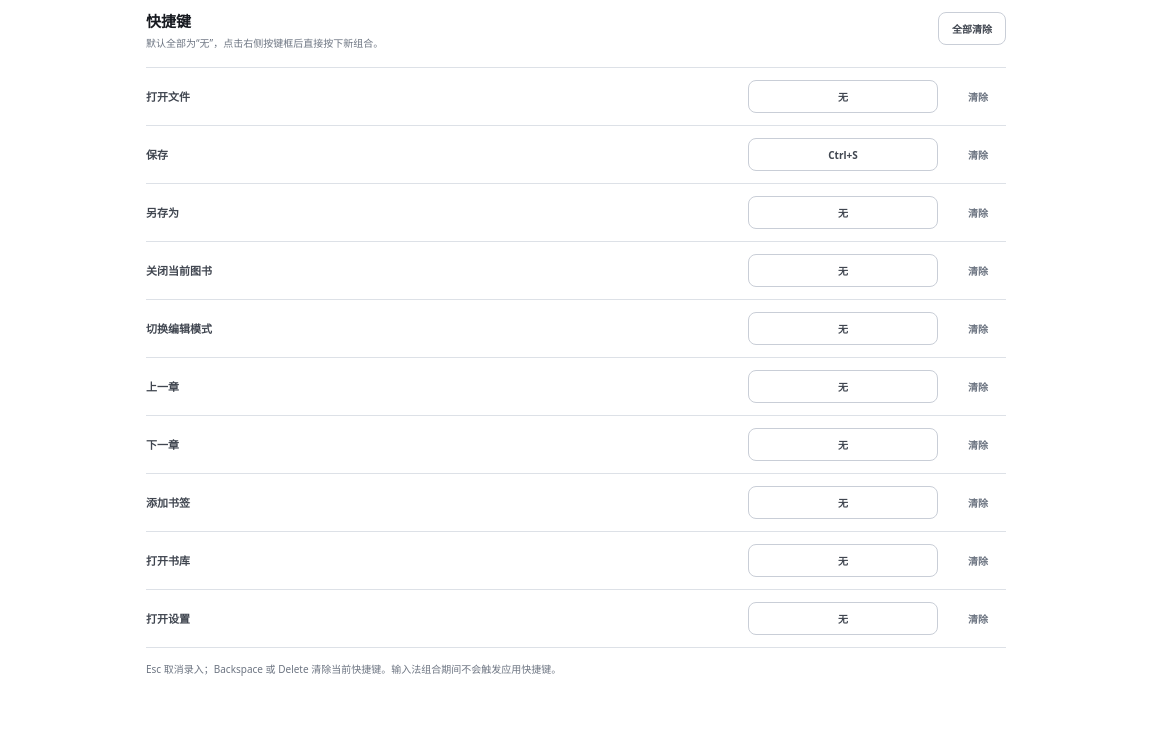
Test: ShortcutSettingsPanel › rejects a combination already assigned to another action
Step 1. Click the button named "打开文件快捷键" → (843, 96), box left=748, top=80, right=938, bottom=113
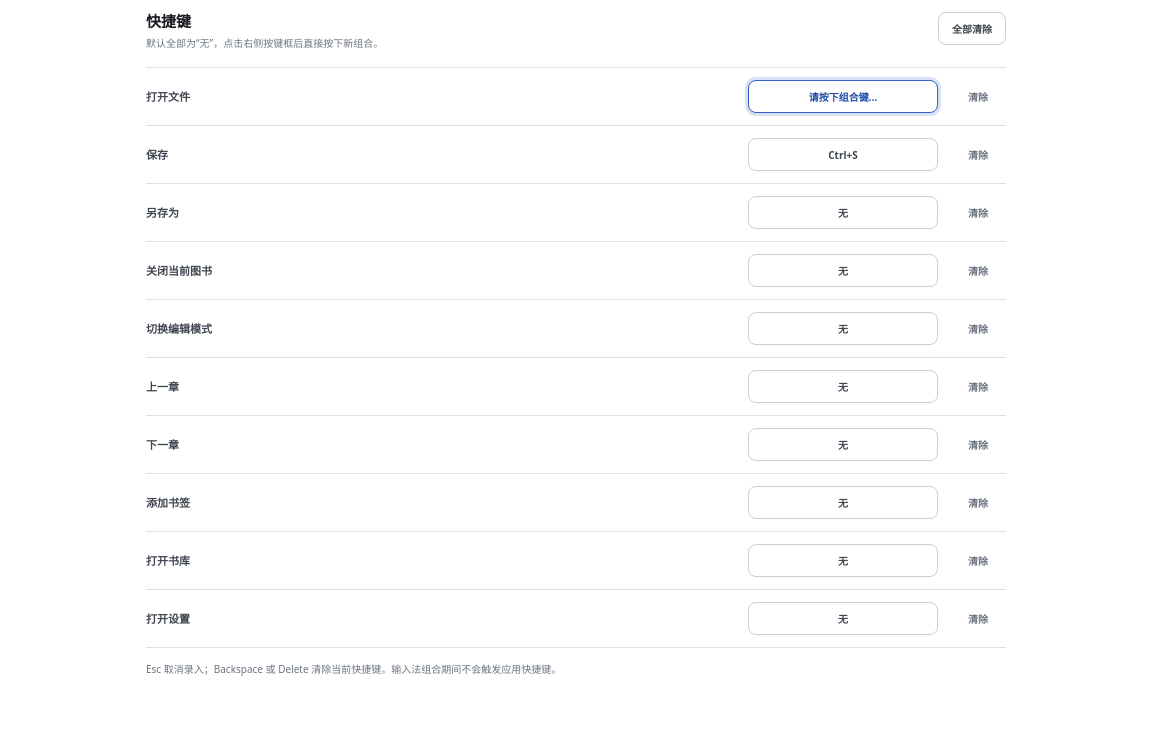
Step 2. Press s in the button with aria-label "打开文件快捷键", box left=748, top=80, right=938, bottom=113
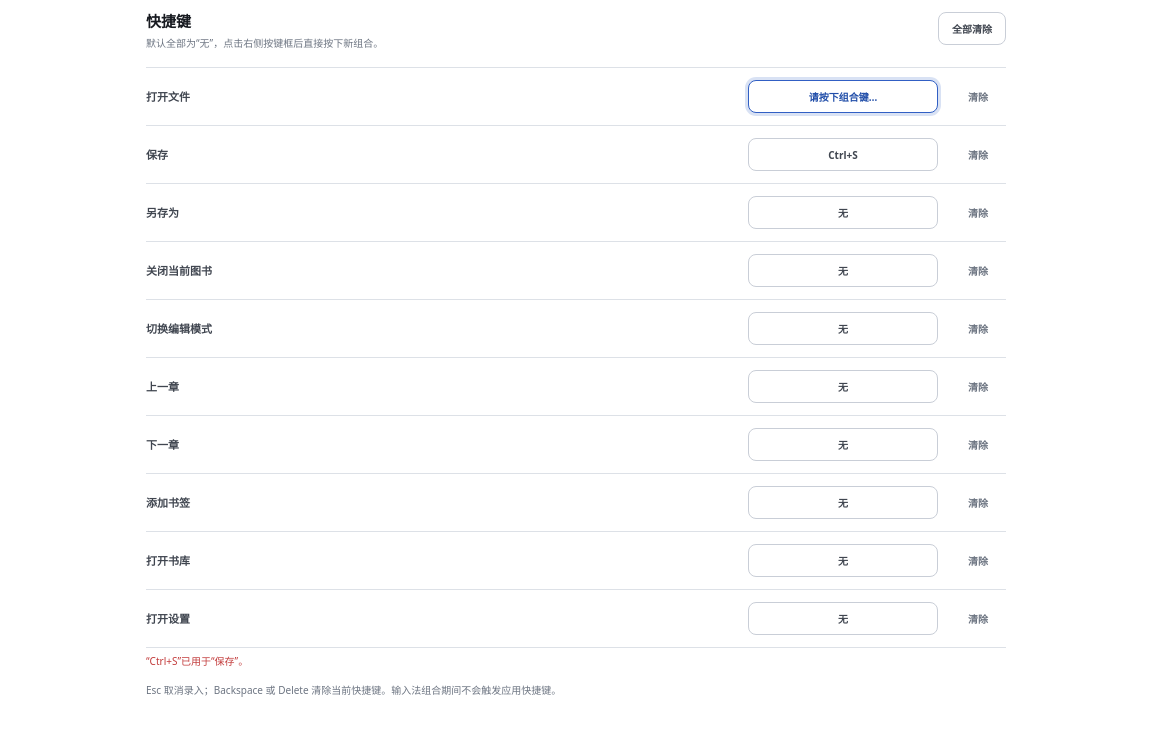
Result: the message shows "已用于“保存”" at left=146, top=654, right=248, bottom=668
